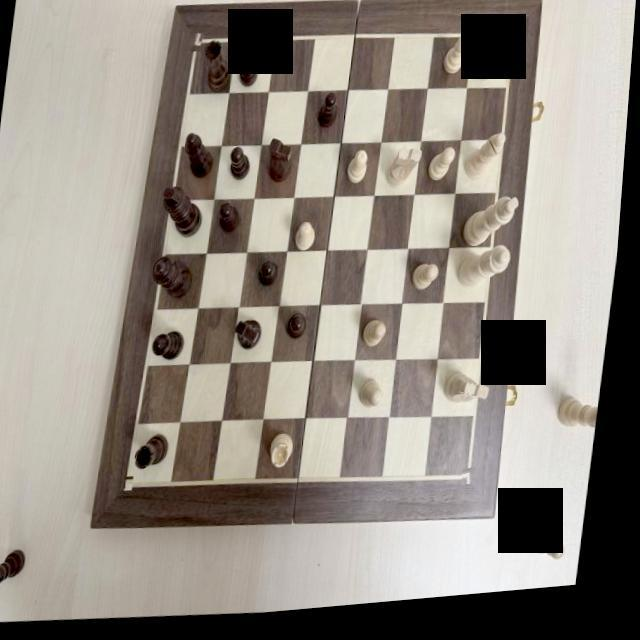chess-table-corners: (469, 476, 485, 495), (192, 36, 205, 56), (129, 478, 143, 494), (512, 40, 518, 50)
